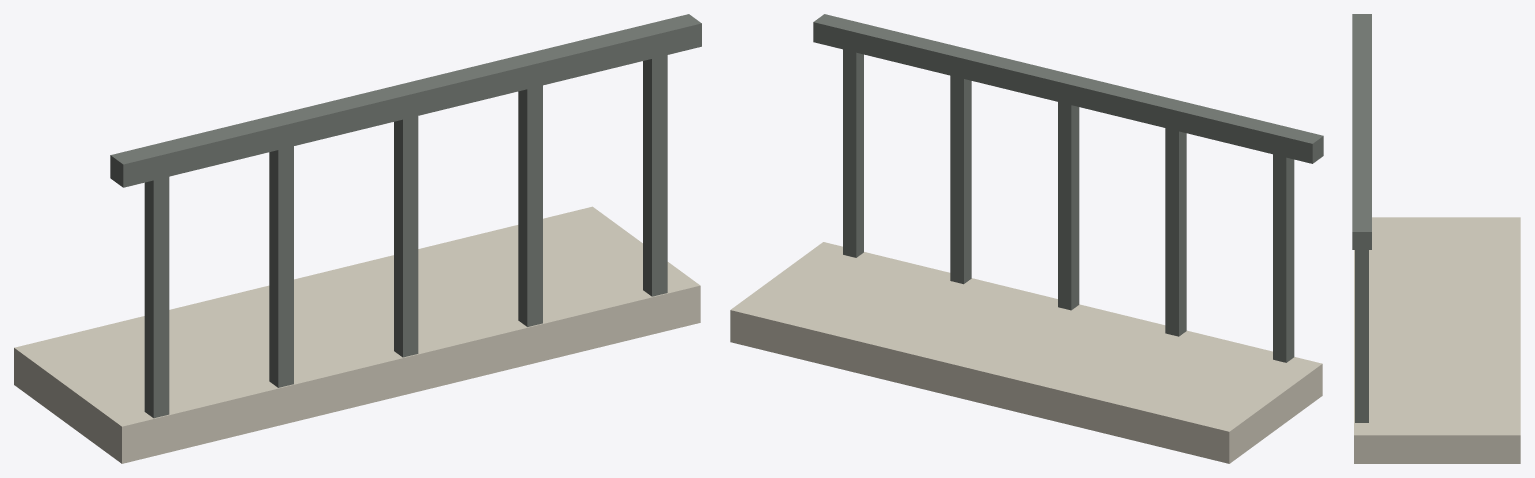
Rendered from balcony-lod0.glb.
The picture shows the model from 3 angles, left to right: view 1: azimuth 30°, elevation 25°; view 2: azimuth 150°, elevation 25°; view 3: azimuth 270°, elevation 25°; orthographic projection. The views are drawn at different scales.
Parts seen in each view (by area): view 1: slab, rail_top, bar_0, bar_2, bar_4, bar_1, bar_3; view 2: slab, rail_top, bar_1, bar_3, bar_2, bar_0, bar_4; view 3: slab, rail_top, bar_4.
Boxes of the visible parts, box(x1,y1,x2,y2) form: slab: box(14, 206, 700, 463); rail_top: box(110, 14, 701, 187); bar_0: box(144, 176, 169, 418); bar_2: box(394, 116, 418, 357); bar_4: box(643, 55, 667, 296); bar_1: box(269, 146, 293, 387); bar_3: box(518, 85, 542, 326); slab: box(730, 242, 1322, 463); rail_top: box(813, 14, 1323, 163); bar_1: box(1165, 128, 1186, 336); bar_3: box(950, 75, 971, 284); bar_2: box(1058, 102, 1079, 310); bar_0: box(1273, 154, 1294, 362); bar_4: box(843, 49, 863, 257); slab: box(1354, 217, 1520, 463); rail_top: box(1352, 14, 1371, 249); bar_4: box(1355, 250, 1368, 422).
Size of the model in its own units: 1.3 by 0.645 by 0.425.
